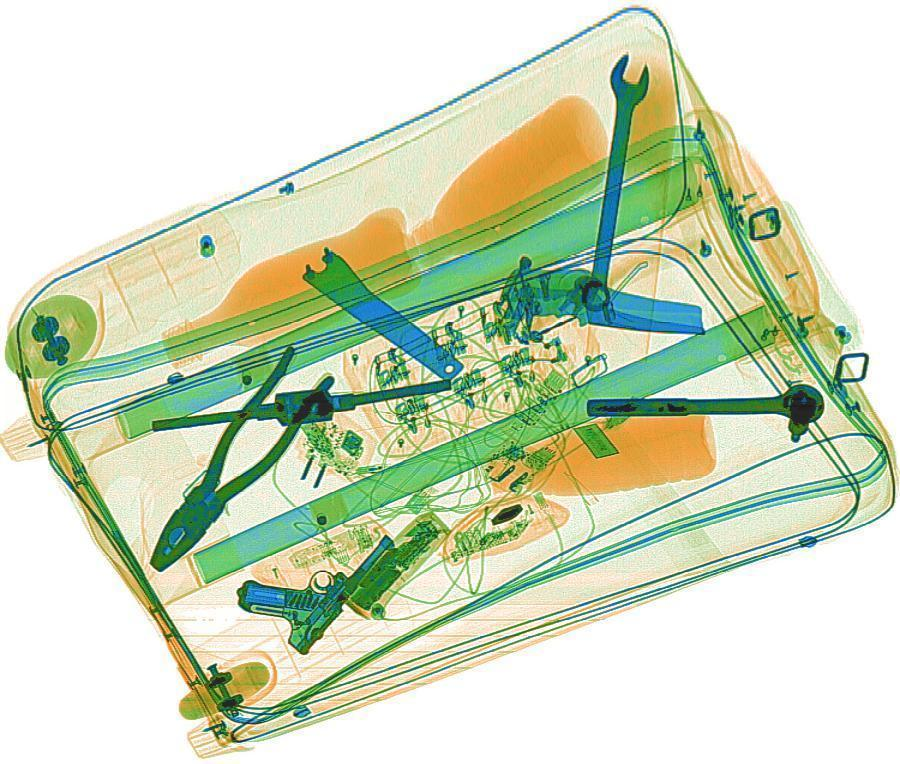Gun: (217, 496, 405, 654)
Pliers: (124, 342, 349, 585)
Wrench: (574, 50, 651, 313)
